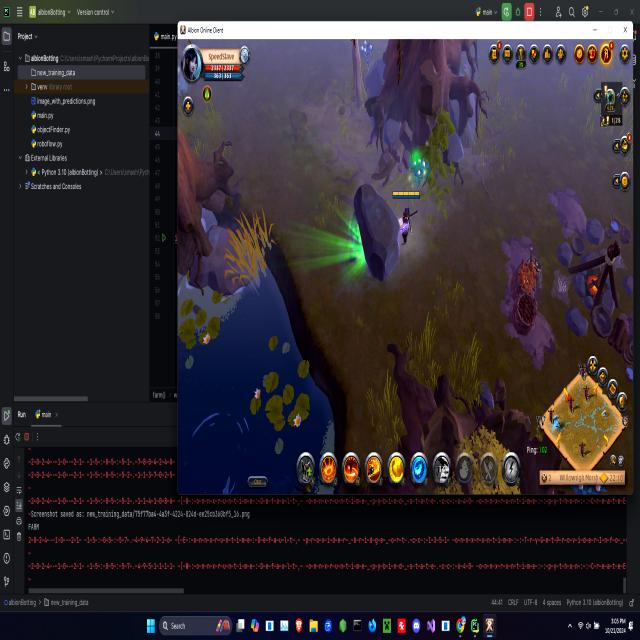hide: (405, 146, 434, 192), (357, 38, 374, 66)
red: (393, 188, 420, 252)
